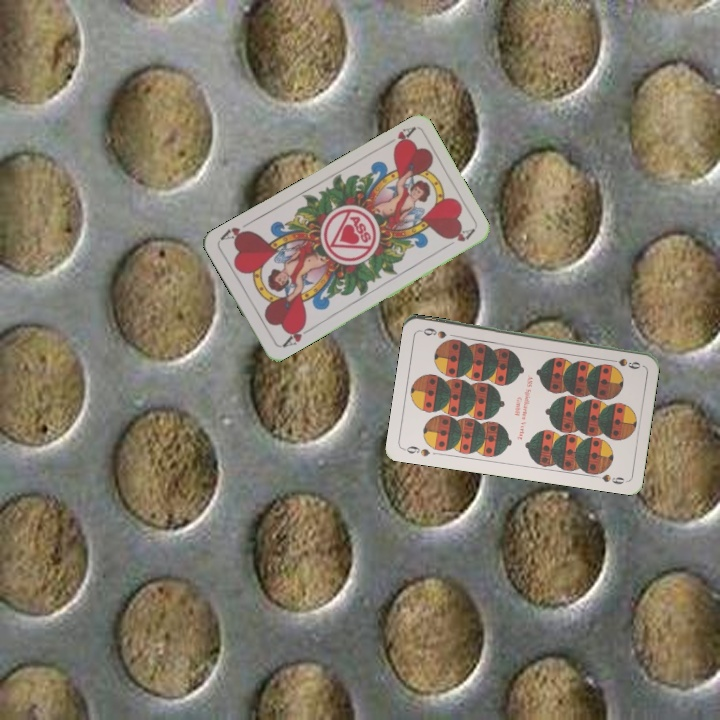HA: (278, 319, 314, 350), (380, 123, 417, 152)
S9: (603, 355, 642, 370), (400, 442, 432, 459)
